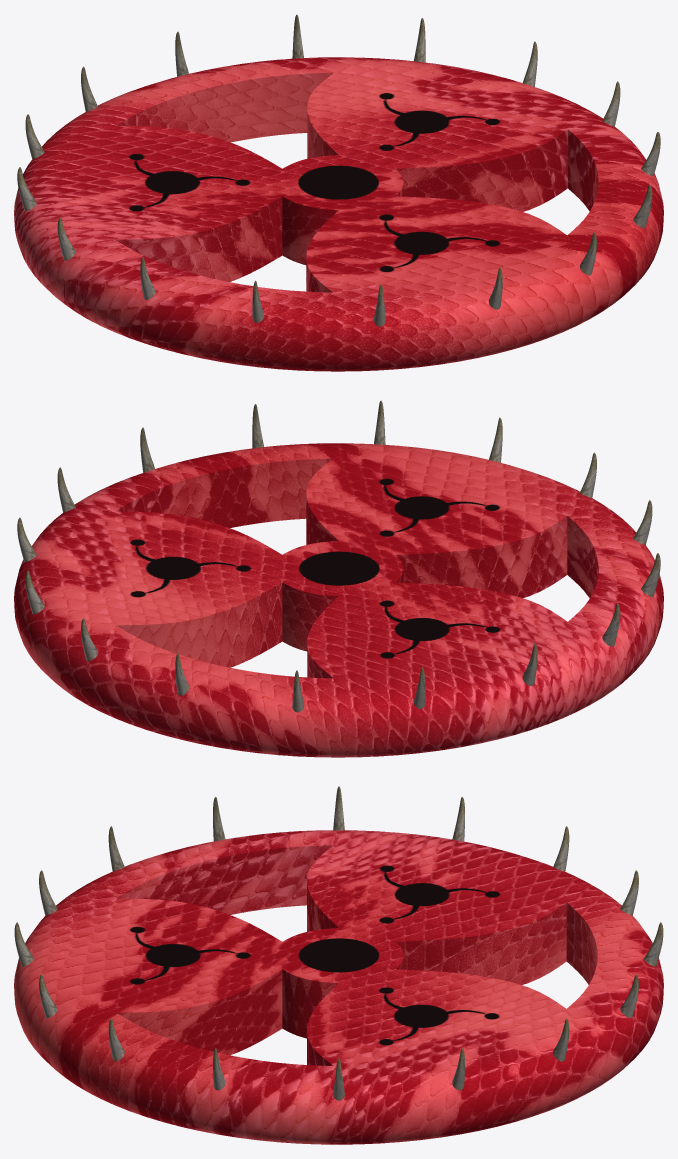
File: MagmatoBat.fbx
3 views of the same model, one above another, from view 1: azimuth 30°, elevation 25°; view 2: azimuth 150°, elevation 25°; view 3: azimuth 270°, elevation 25° (orthographic).
Visible parts, largest first — view 1: Magmato; view 2: Magmato; view 3: Magmato.
Part boxes in pixels (bbox=[...]): Magmato: bbox=[14, 14, 663, 371]; Magmato: bbox=[14, 400, 663, 757]; Magmato: bbox=[14, 786, 663, 1144].
Bounding box in the file's own units: 2.33 × 0.366 × 2.33.
